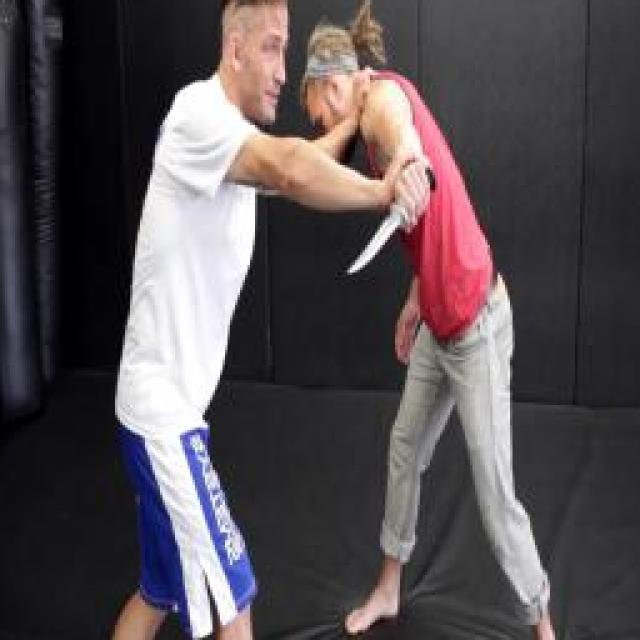knife: (342, 160, 440, 288)
